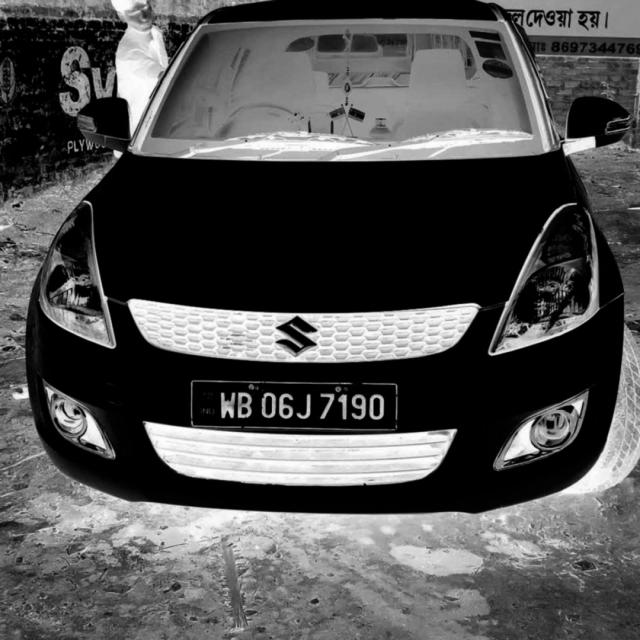0: (260, 387, 278, 421), (369, 391, 386, 424)
1: (337, 391, 350, 424)
6: (278, 390, 296, 421)
7: (316, 390, 338, 424)
9: (350, 390, 368, 422)
B: (238, 390, 254, 420)
IND: (197, 386, 221, 418)
Indian_registered: (191, 380, 398, 431)
J: (296, 391, 312, 422)
W: (218, 385, 238, 423)
